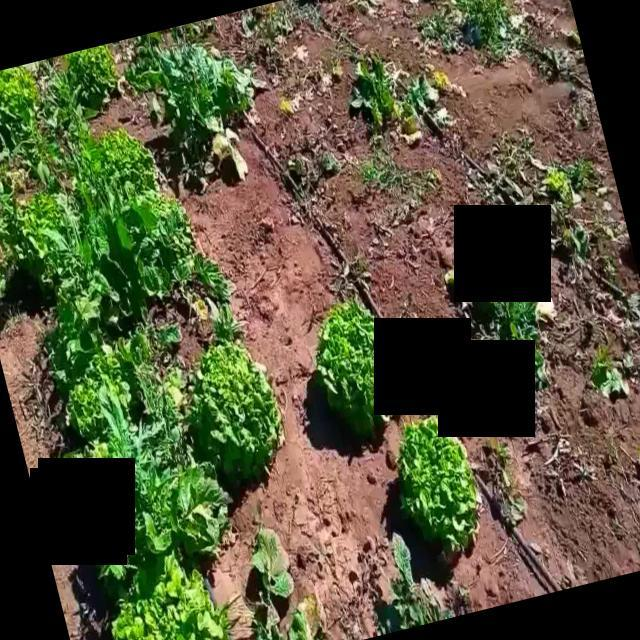Lettuce: (186, 339, 280, 482), (393, 416, 483, 559), (315, 294, 386, 446), (70, 339, 172, 439), (114, 566, 226, 640), (85, 129, 160, 202), (93, 125, 162, 201), (64, 44, 118, 112), (18, 191, 83, 247), (0, 66, 45, 132)
